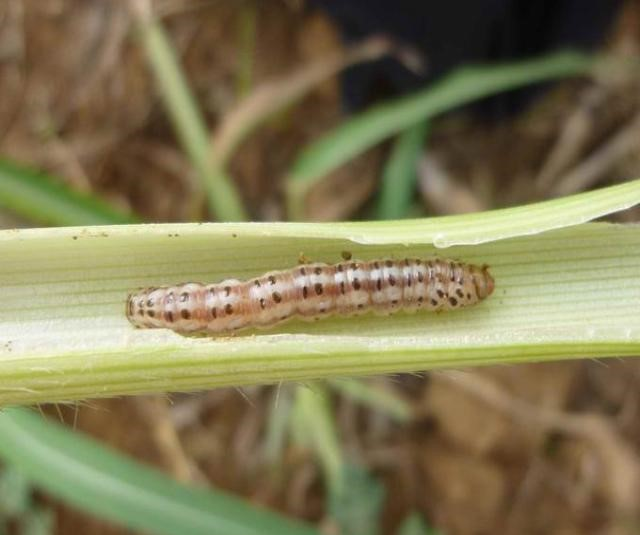yellow-stem-borer-larva: (91, 226, 524, 360)
